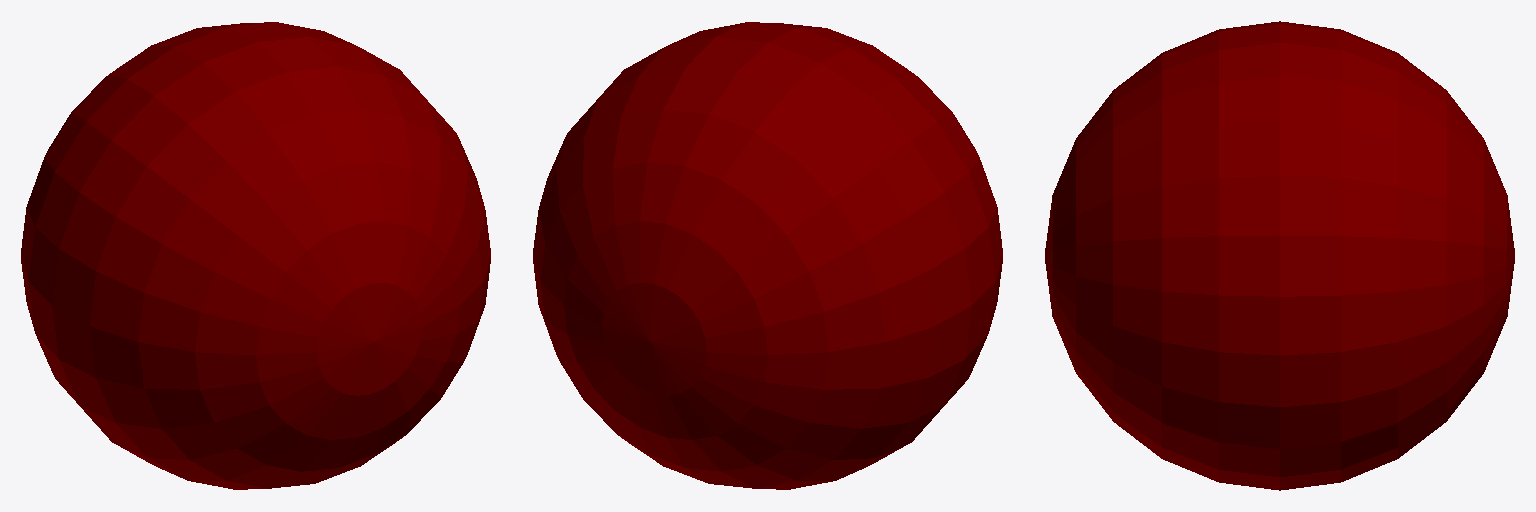
3 views of the same model, side by side, from view 1: azimuth 30°, elevation 25°; view 2: azimuth 150°, elevation 25°; view 3: azimuth 270°, elevation 25° (orthographic).
Visible parts, largest first — view 1: solid1_4, top__7_1_5; view 2: solid1_4, top__7_1_5; view 3: solid1_4, top__7_1_5.
Part boxes in pixels (x1,y1,x2,y2): solid1_4: (21,23,490,488); top__7_1_5: (156,22,355,107); solid1_4: (533,23,1002,488); top__7_1_5: (668,22,867,107); solid1_4: (1045,21,1514,490); top__7_1_5: (1180,22,1379,107).
Size of the model in its own units: 2.25 by 2.25 by 2.25.